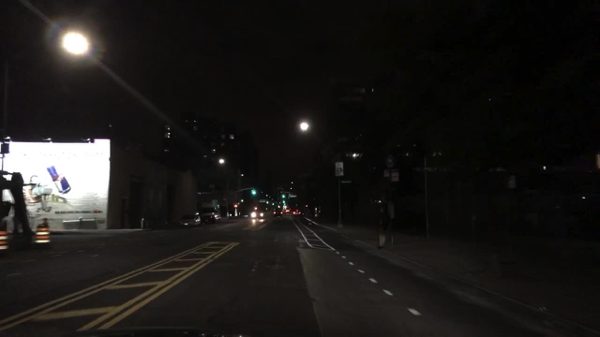car: (199, 201, 223, 223), (179, 212, 203, 228), (250, 208, 268, 220), (272, 208, 283, 218), (293, 209, 303, 218), (282, 207, 291, 214)
person: (7, 173, 35, 242), (377, 206, 389, 250)
traffic light: (251, 188, 257, 195), (280, 200, 286, 206), (233, 204, 239, 209), (280, 194, 285, 199)
traffic sign: (385, 153, 394, 168), (334, 162, 343, 176), (391, 171, 399, 183), (340, 180, 353, 184), (288, 194, 298, 199), (383, 172, 390, 178)
